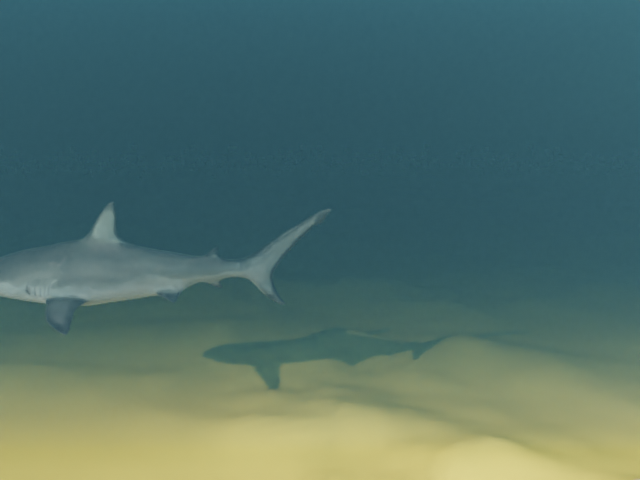Carribean Shark.001: (0, 201, 331, 334)
